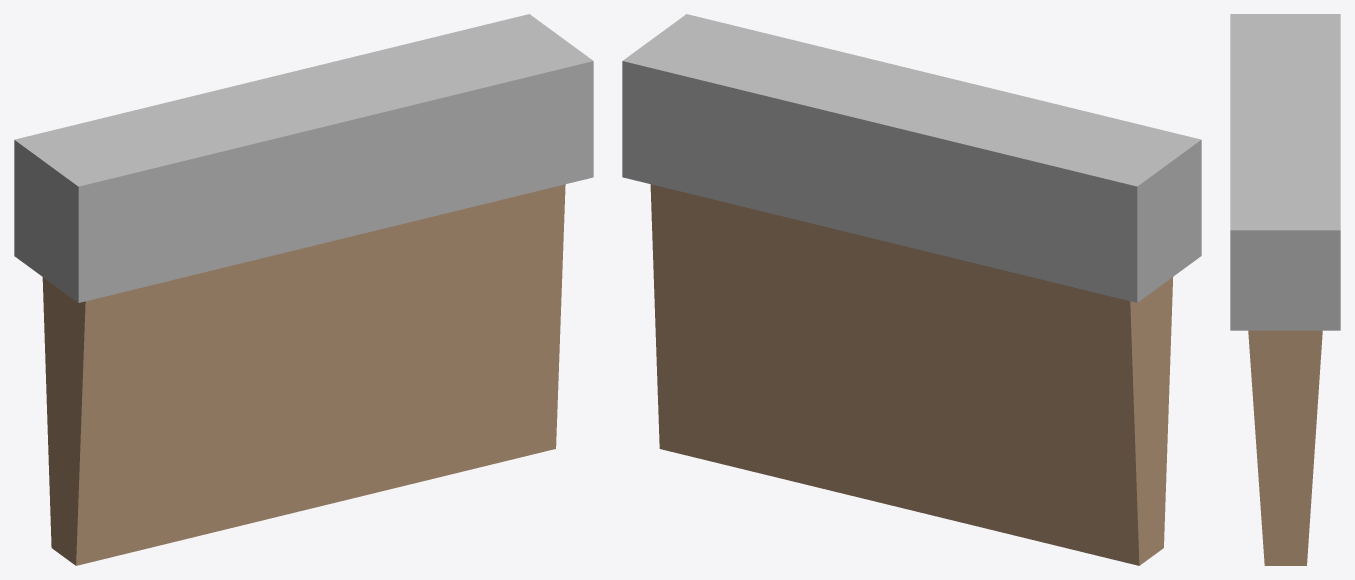
Rendered from FlatBrush.fbx.
3 views of the same model, side by side, from view 1: azimuth 30°, elevation 25°; view 2: azimuth 150°, elevation 25°; view 3: azimuth 270°, elevation 25° (orthographic). The views are drawn at different scales.
Parts seen in each view (by area): view 1: Group1; view 2: Group1; view 3: Group1.
Boxes of the visible parts, box(x1,y1,x2,y2) form: Group1: box(14, 14, 593, 565); Group1: box(622, 14, 1201, 565); Group1: box(1230, 14, 1340, 565).
Size of the model in its own units: 1.59 by 1.18 by 0.3439.
